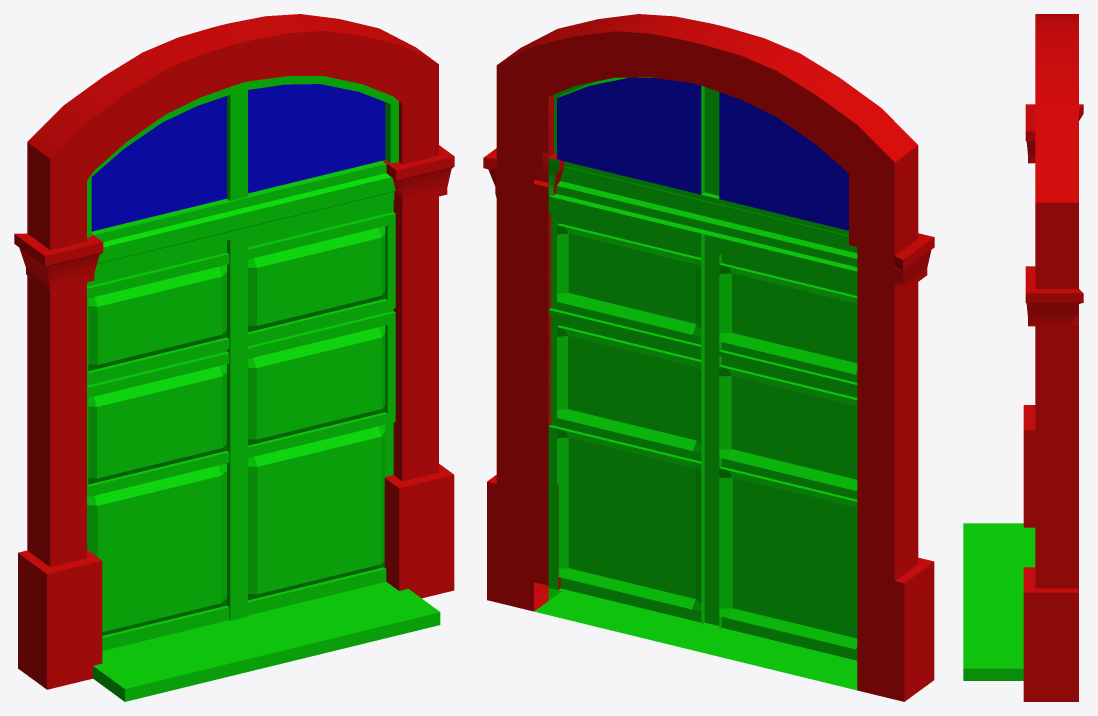
Rendered from MainDoubleDoor01_Nice.fbx.
3 renders of one model, left to right at view 1: azimuth 30°, elevation 25°; view 2: azimuth 150°, elevation 25°; view 3: azimuth 270°, elevation 25°, orthographic. The views are drawn at different scales.
Visible parts, largest first — view 1: MainDoubleDoor1; view 2: MainDoubleDoor1; view 3: MainDoubleDoor1.
Boxes of the visible parts, x1,y1,x2,y2 form: MainDoubleDoor1: [14, 14, 454, 701]; MainDoubleDoor1: [483, 14, 934, 701]; MainDoubleDoor1: [963, 14, 1083, 701].
Size of the model in its own units: 208 by 288 by 55.83.
